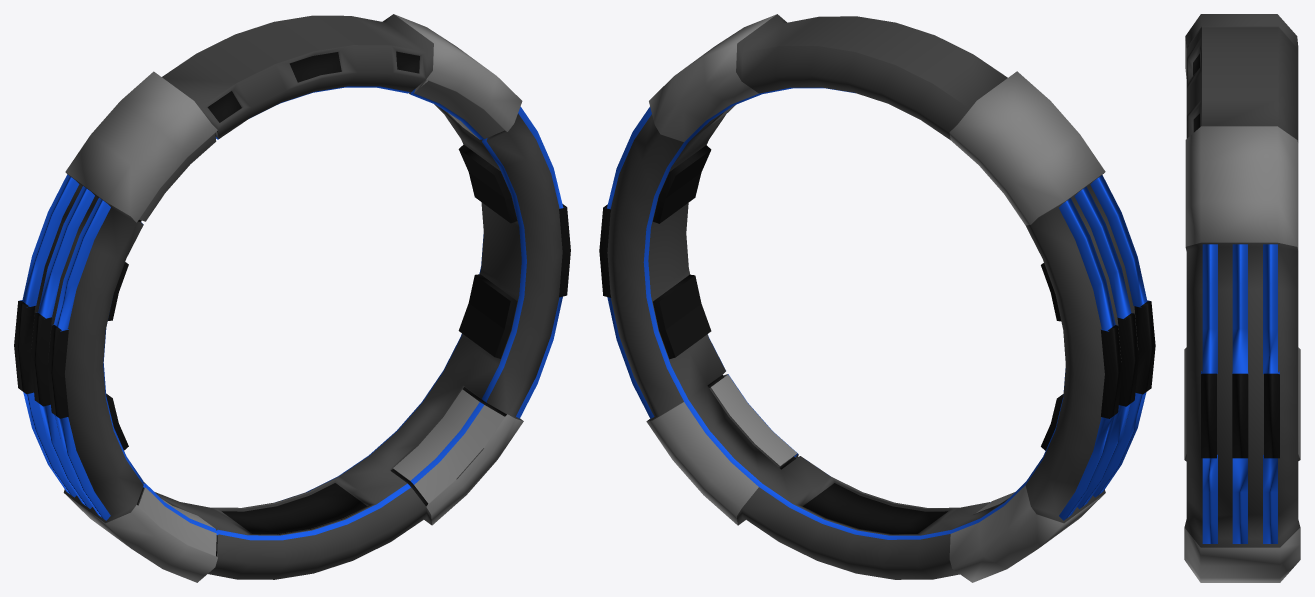
Rendered from Portal.glb.
3 renders of one model, left to right at view 1: azimuth 30°, elevation 25°; view 2: azimuth 150°, elevation 25°; view 3: azimuth 270°, elevation 25°, orthographic. The views are drawn at different scales.
Visible parts, largest first — view 1: Cylinder.063; view 2: Cylinder.063; view 3: Cylinder.063.
Part boxes in pixels (left/top/right/bottom): Cylinder.063: left=14, top=14, right=570, bottom=582; Cylinder.063: left=599, top=14, right=1155, bottom=582; Cylinder.063: left=1184, top=14, right=1300, bottom=582.
Size of the model in its own units: 4.39 by 4.25 by 0.9002.
